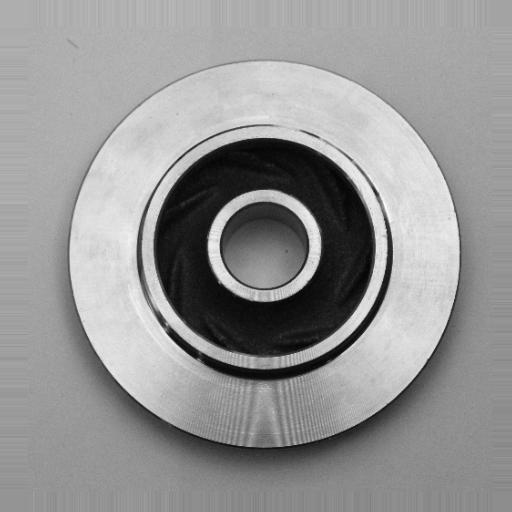unpolished_casting: (65, 55, 462, 456)
